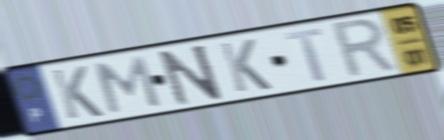K: (49, 64, 107, 122), (217, 37, 275, 95)
M: (91, 53, 164, 116)
N: (156, 42, 227, 108)
R: (329, 15, 403, 82)
T: (282, 26, 329, 85)
